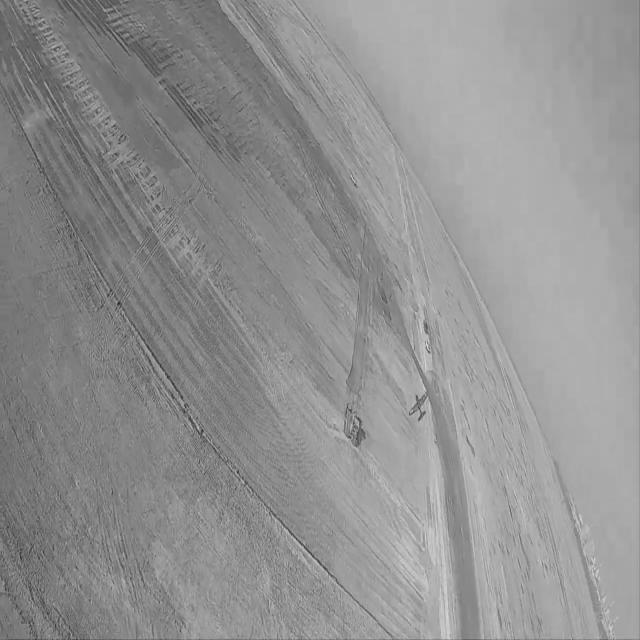iha: (404, 384, 433, 429)
